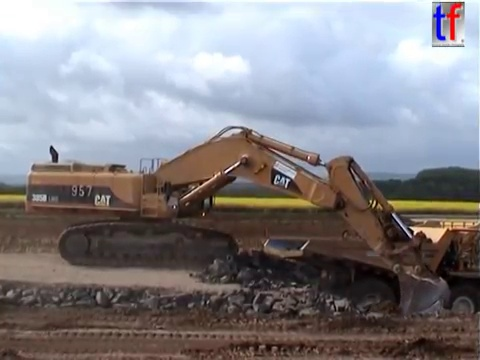excavator: (22, 122, 454, 330)
truck: (260, 215, 480, 332)
